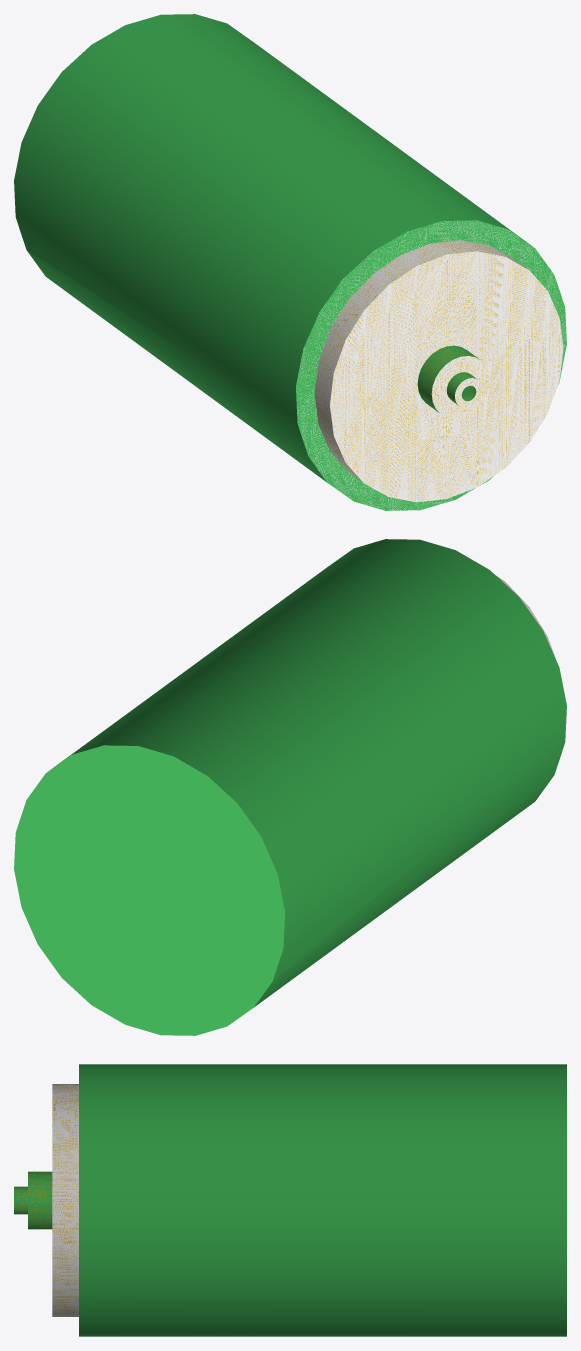
The model's file is model_align.obj.
3 renders of one model, top to bottom at view 1: azimuth 30°, elevation 25°; view 2: azimuth 150°, elevation 25°; view 3: azimuth 270°, elevation 25°, orthographic. The views are drawn at different scales.
Parts seen in each view (by area): view 1: mesh1_mesh1-geometry; view 2: mesh1_mesh1-geometry; view 3: mesh1_mesh1-geometry.
Boxes of the visible parts, x1,y1,x2,y2 form: mesh1_mesh1-geometry: (14, 14, 566, 510); mesh1_mesh1-geometry: (14, 539, 566, 1035); mesh1_mesh1-geometry: (14, 1064, 566, 1336).
Bounding box in the file's own units: 0.059 × 0.059 × 0.1203.
